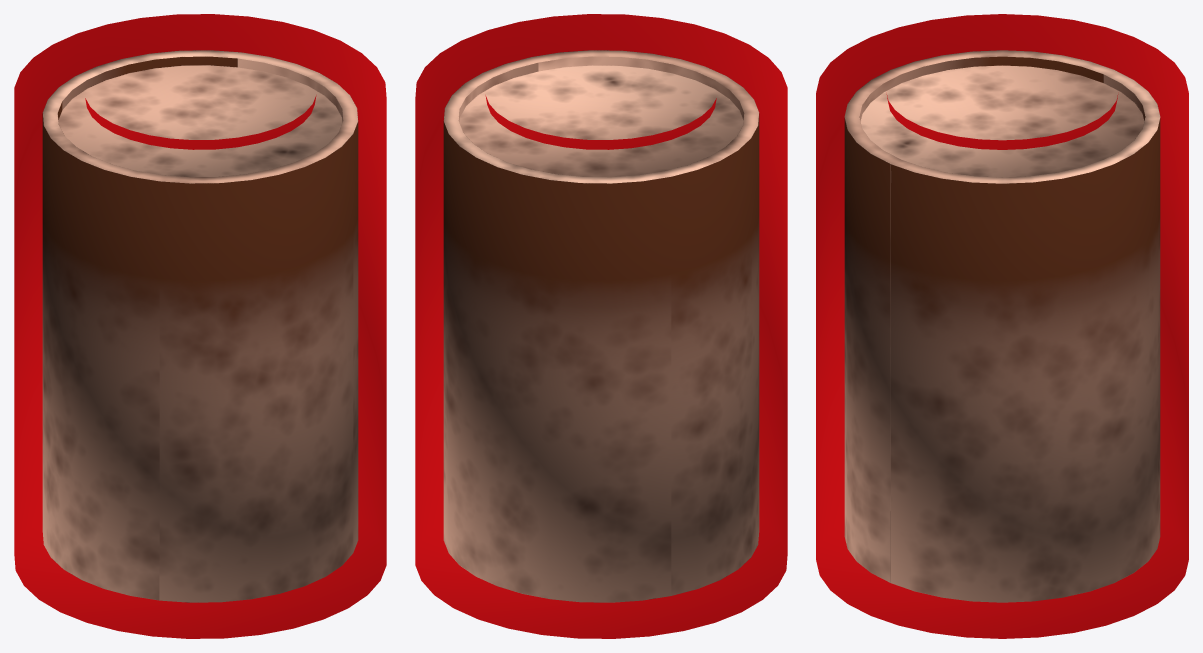
The model's file is barrel.glb.
3 renders of one model, left to right at view 1: azimuth 30°, elevation 25°; view 2: azimuth 150°, elevation 25°; view 3: azimuth 270°, elevation 25°, orthographic.
Parts seen in each view (by area): view 1: Cylinder; view 2: Cylinder; view 3: Cylinder.
Part boxes in pixels (<box>): Cylinder: <box>14,14,386,638</box>; Cylinder: <box>415,14,787,638</box>; Cylinder: <box>816,14,1188,638</box>.
Bounding box in the file's own units: 2.36 × 3.28 × 2.36.
Materials: 2 (1 with a texture image).
